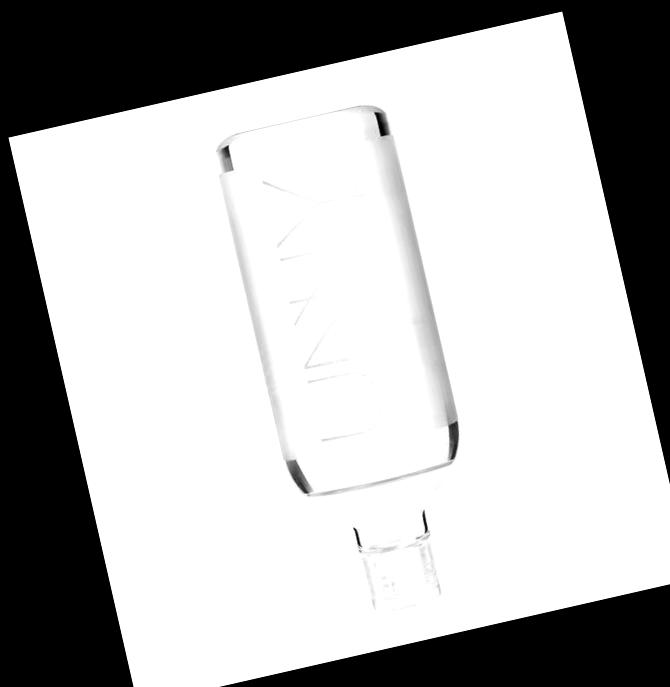cosmetic: (209, 102, 494, 629)
